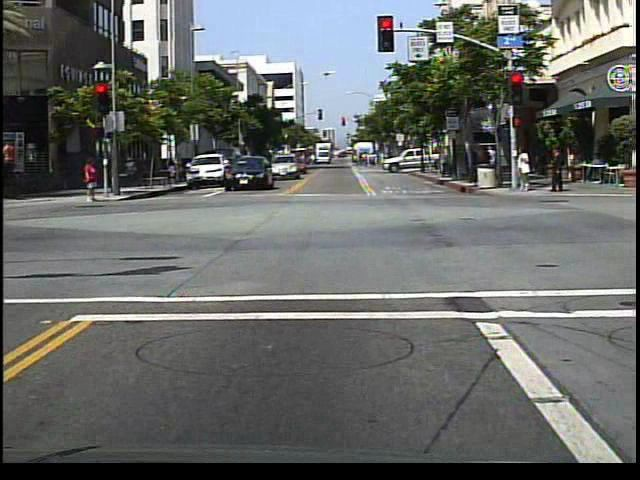person: (83, 157, 104, 209), (514, 144, 535, 193), (546, 144, 567, 193)
